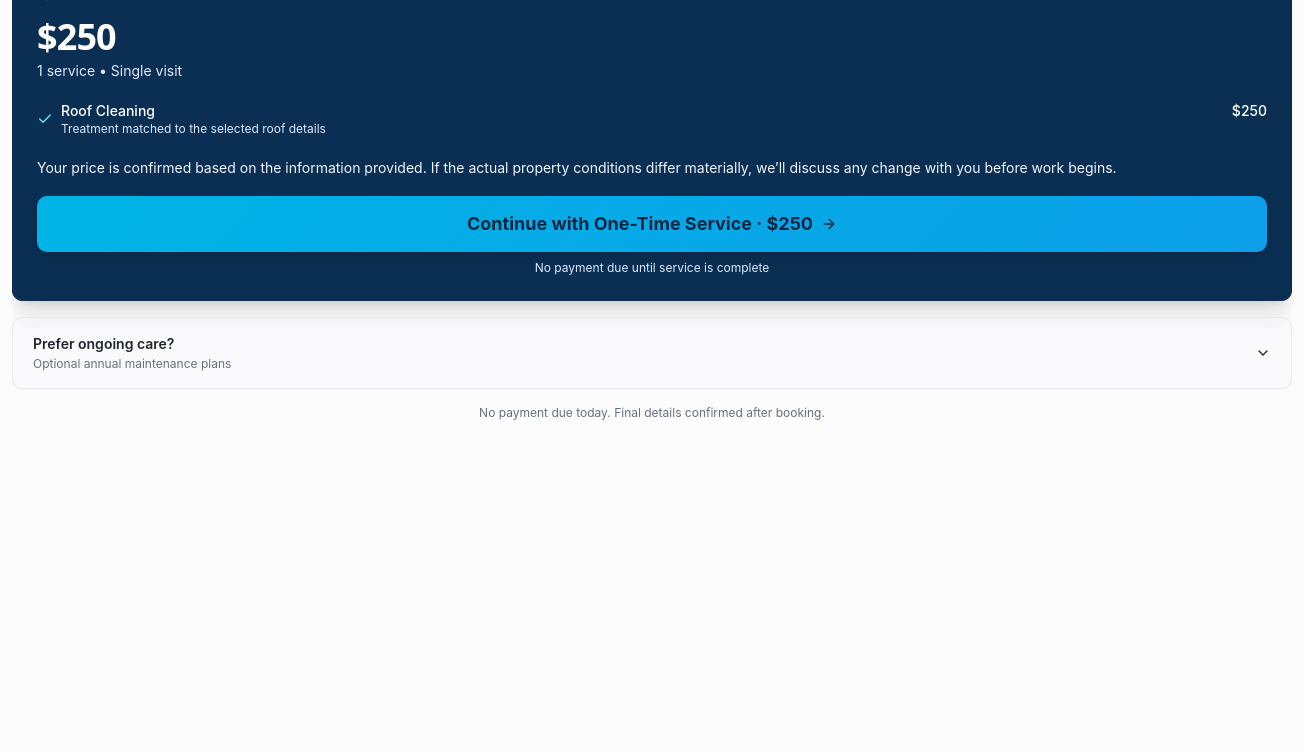
Test case: PlanUpsellCard — fail-closed plan behavior › keeps the canonical one-time quote above collapsed, subordinate plans
Click the button with test id "plans-toggle" at x=104, y=343, box [13,318,1291,388]
(page scrolled)
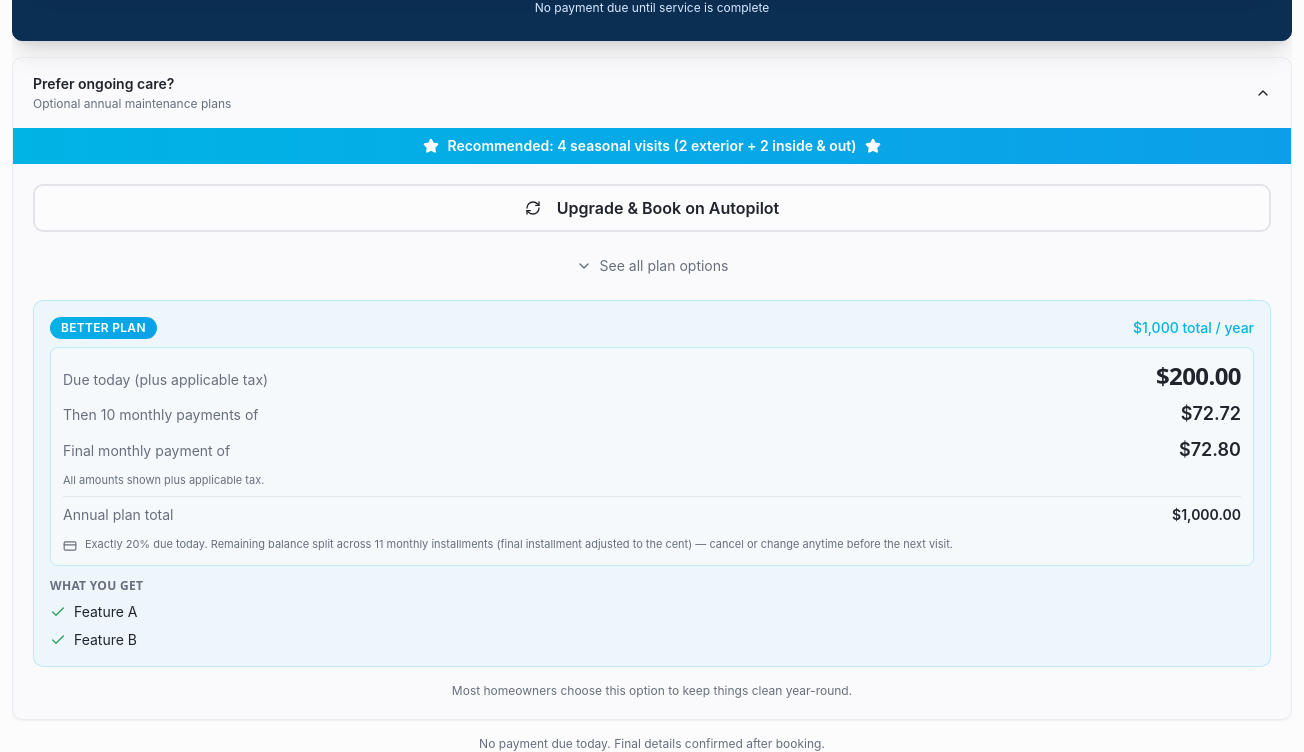
Check: the element with test id "plan-summary" is shown, box [33,300,1271,667]
